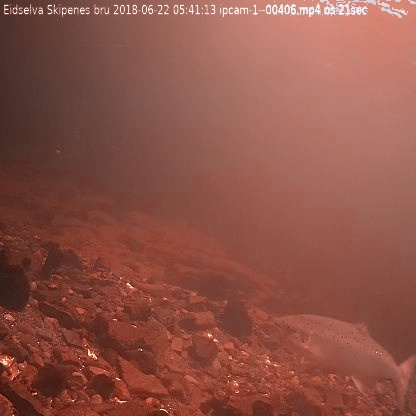salmon: (270, 309, 416, 416)
